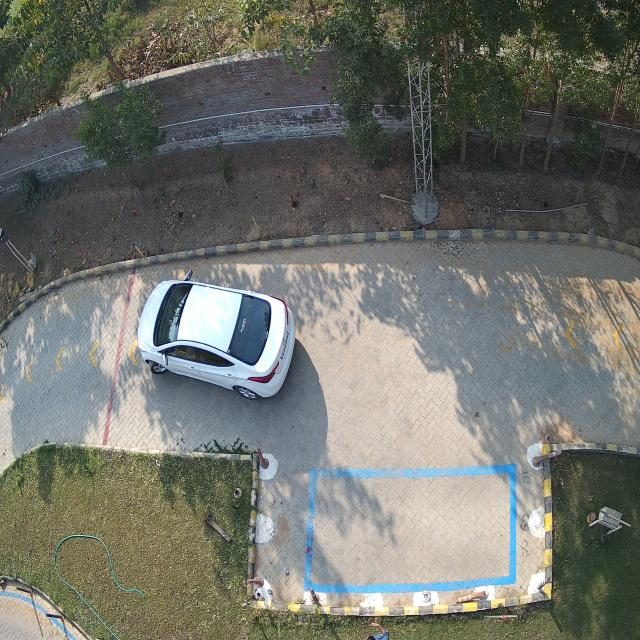car: (134, 280, 294, 400)
